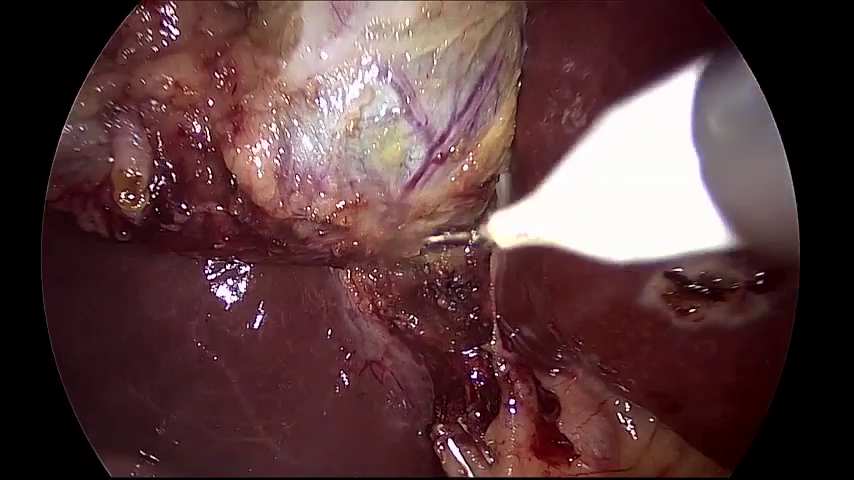lhook: (420, 43, 799, 262)
